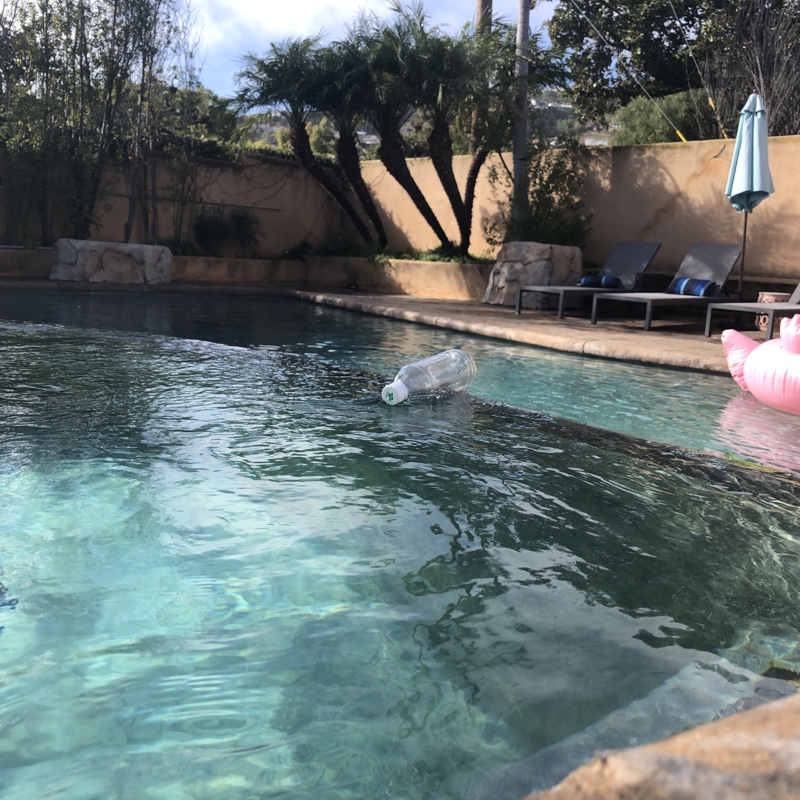Plastic Bottle: (376, 342, 486, 408)
